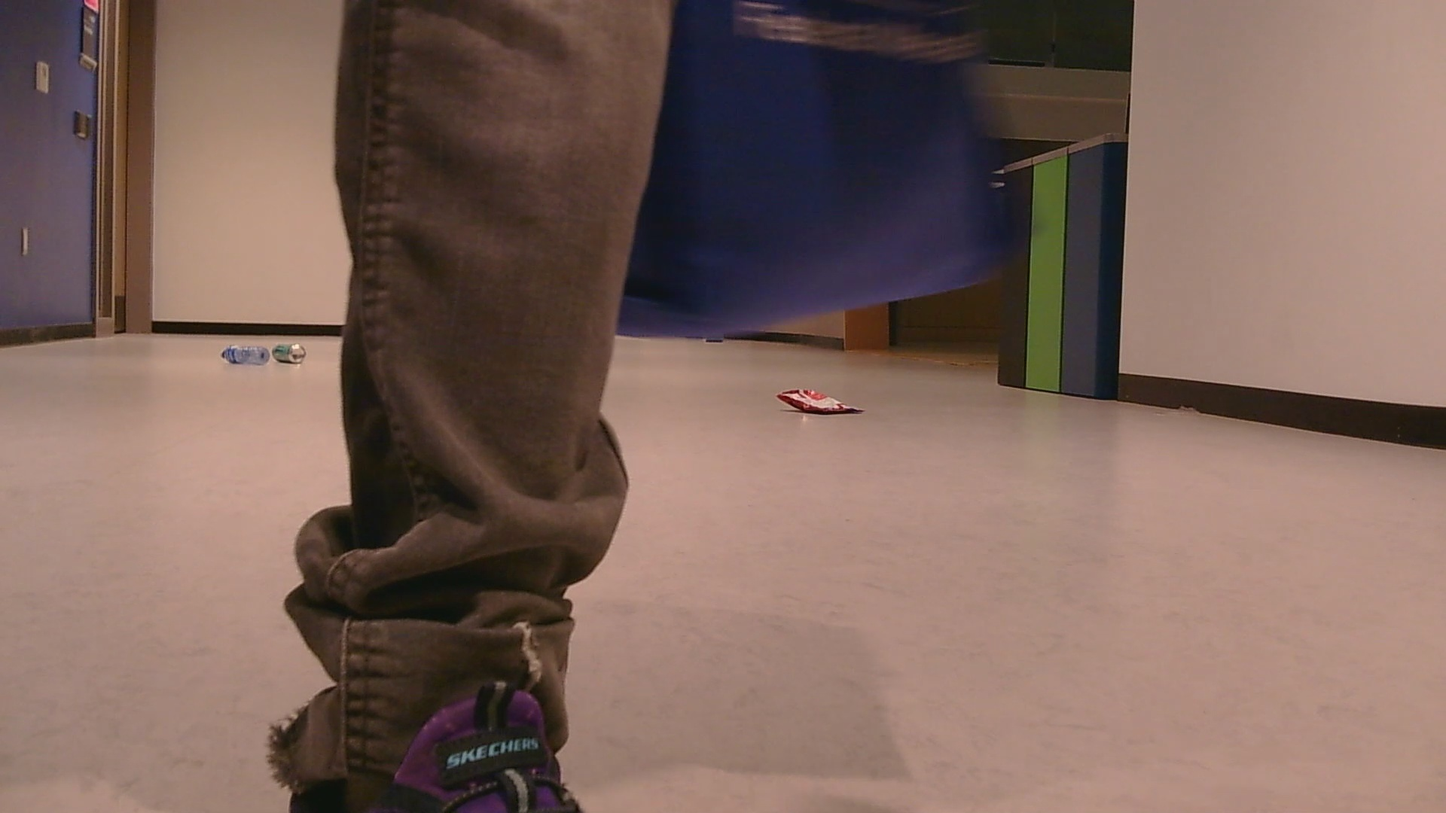carton: (767, 382, 894, 420), (218, 334, 266, 373), (271, 333, 318, 372)
